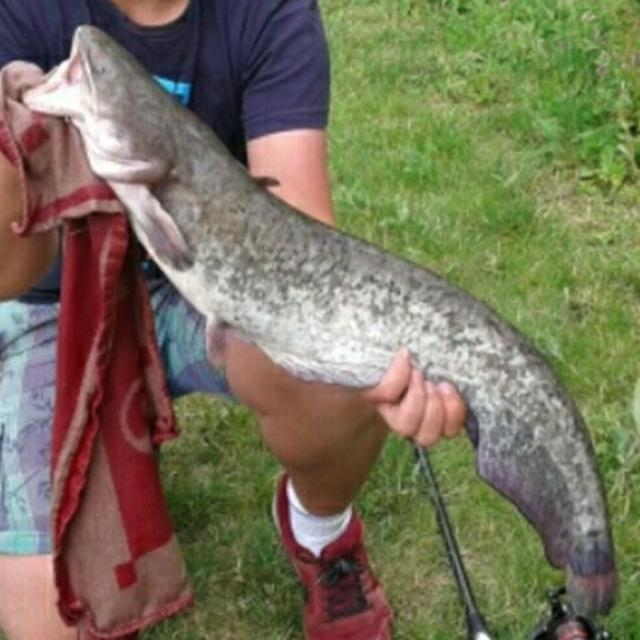Catfish: (26, 25, 625, 617)
